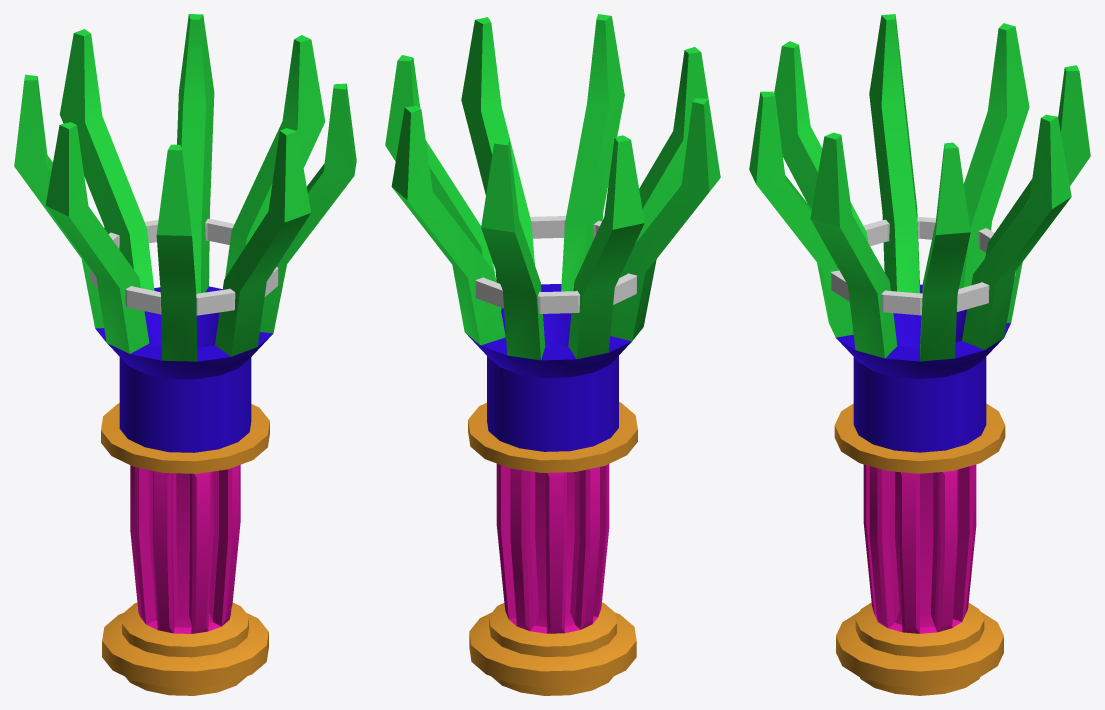
File: Torch.fbx
3 renders of one model, left to right at view 1: azimuth 30°, elevation 25°; view 2: azimuth 150°, elevation 25°; view 3: azimuth 270°, elevation 25°, orthographic.
Parts seen in each view (by area): view 1: Torch, Ring; view 2: Torch, Ring; view 3: Torch, Ring.
Boxes of the visible parts, <box> form: Torch: <box>14,14,356,695</box>; Ring: <box>90,218,278,315</box>; Torch: <box>385,14,720,695</box>; Ring: <box>475,216,637,313</box>; Torch: <box>749,14,1090,695</box>; Ring: <box>831,217,1015,315</box>.
Bounding box in the file's own units: 375 × 717 × 375.
